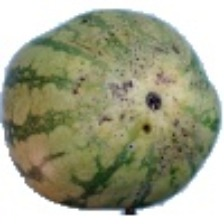watermelon: (43, 14, 177, 186)
